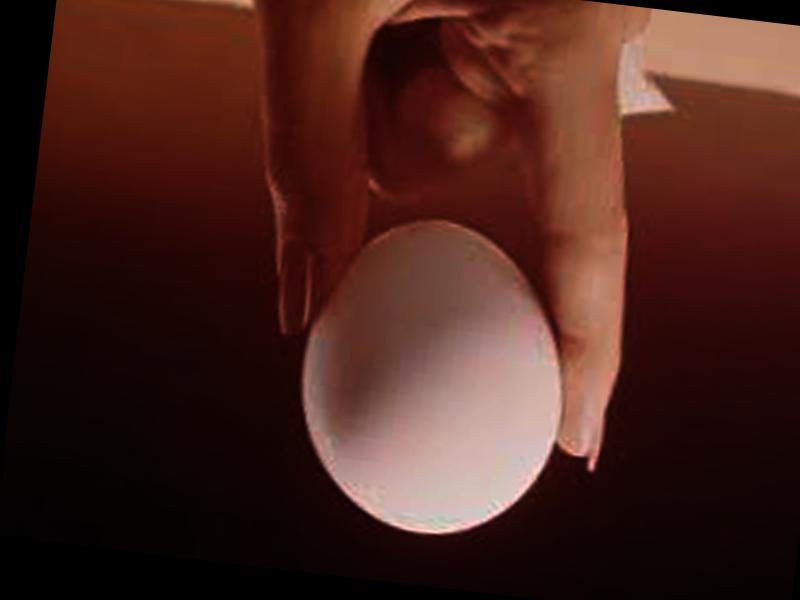Eggs: (283, 204, 585, 549)
